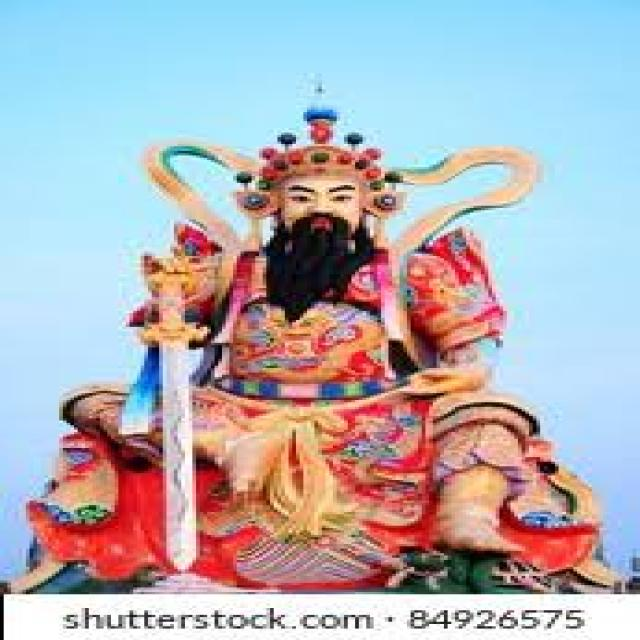Xuan wu: (100, 107, 524, 526)
